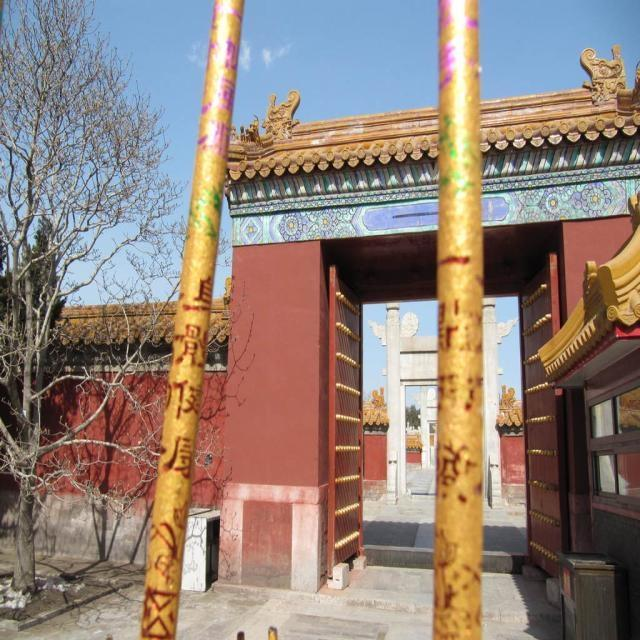door: (329, 252, 562, 582)
